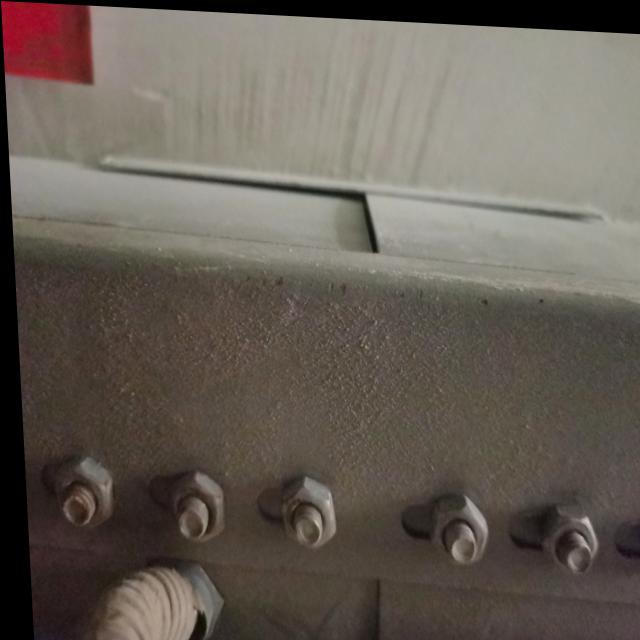Regular bolt: (49, 454, 109, 534), (426, 489, 485, 563), (166, 465, 221, 542), (275, 474, 331, 546), (533, 498, 591, 566)
